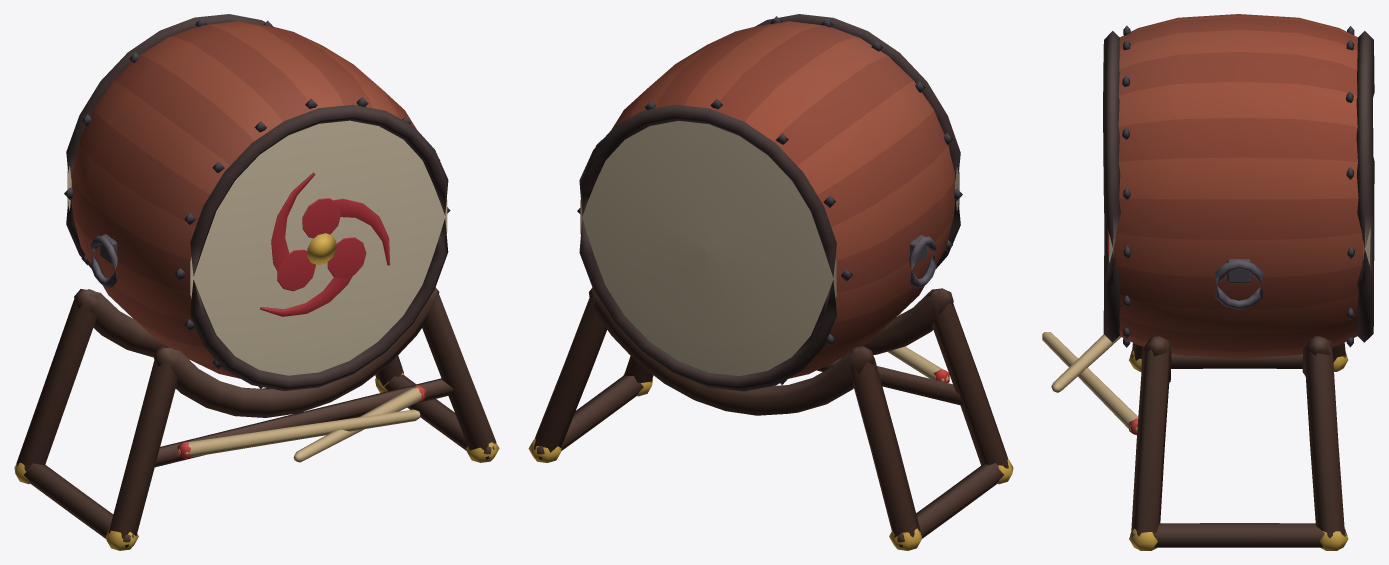
The model's file is furn-taikoDrum.glb.
3 views of the same model, side by side, from view 1: azimuth 30°, elevation 25°; view 2: azimuth 150°, elevation 25°; view 3: azimuth 270°, elevation 25° (orthographic).
Parts seen in each view (by area): view 1: furn; view 2: furn; view 3: furn.
Boxes of the visible parts, box(x1,y1,x2,y2) form: furn: box(14, 14, 499, 550); furn: box(528, 14, 1013, 550); furn: box(1042, 14, 1374, 550).
Bounding box in the file's own units: 0.9066 × 0.942 × 0.6596.
